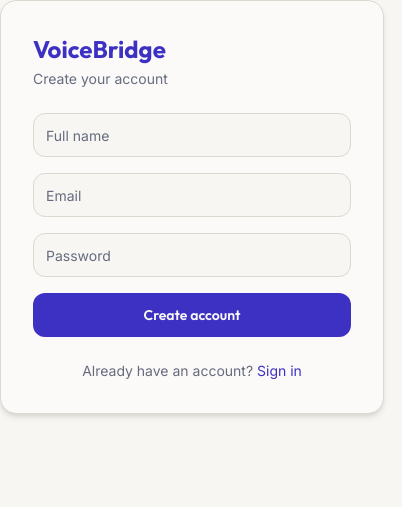
Test case: RegisterForm › shows an error message when signUp.email throws
The width and height of the screenshot is (402, 507).
Step 1. Type "Jane Doe" into the field with placeholder "Full name" → (192, 135), box [33,113,351,157]
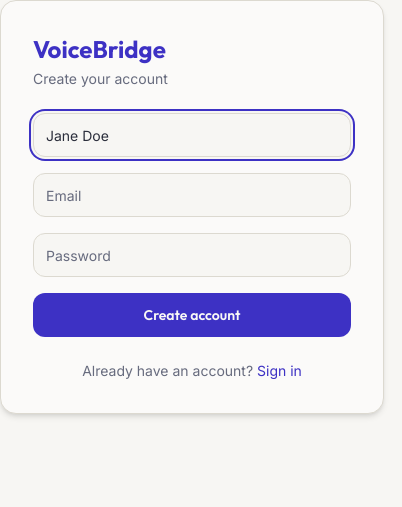
Step 2. Type "jane@example.com" into the field with placeholder "Email" → (192, 195), box [33,173,351,217]
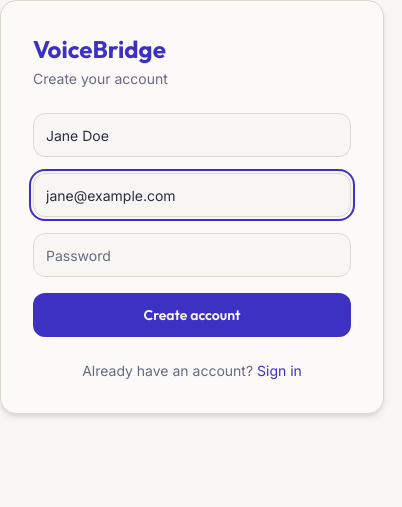
Step 3. Type "password123" into the password field with placeholder "Password" → (192, 255), box [33,233,351,277]
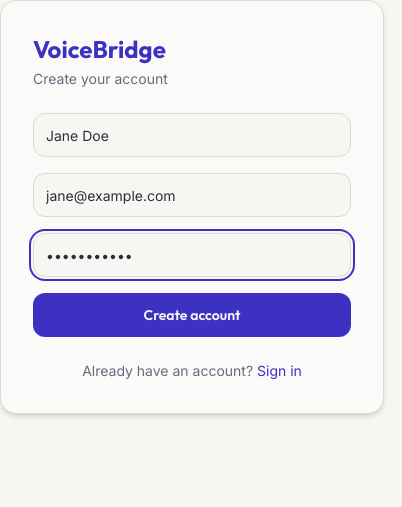
Step 4. Click the button "Create account" → (192, 315), box [33,293,351,337]
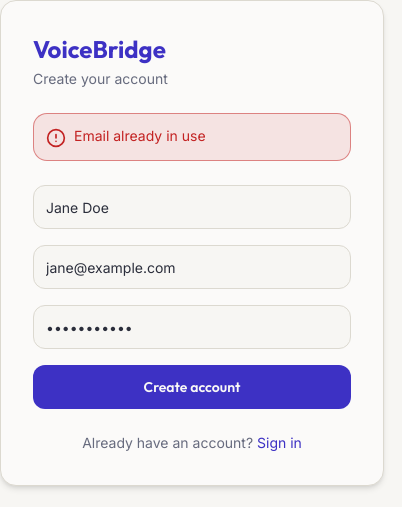
Check: the text "Email already in use" is shown, box [74,126,206,148]
